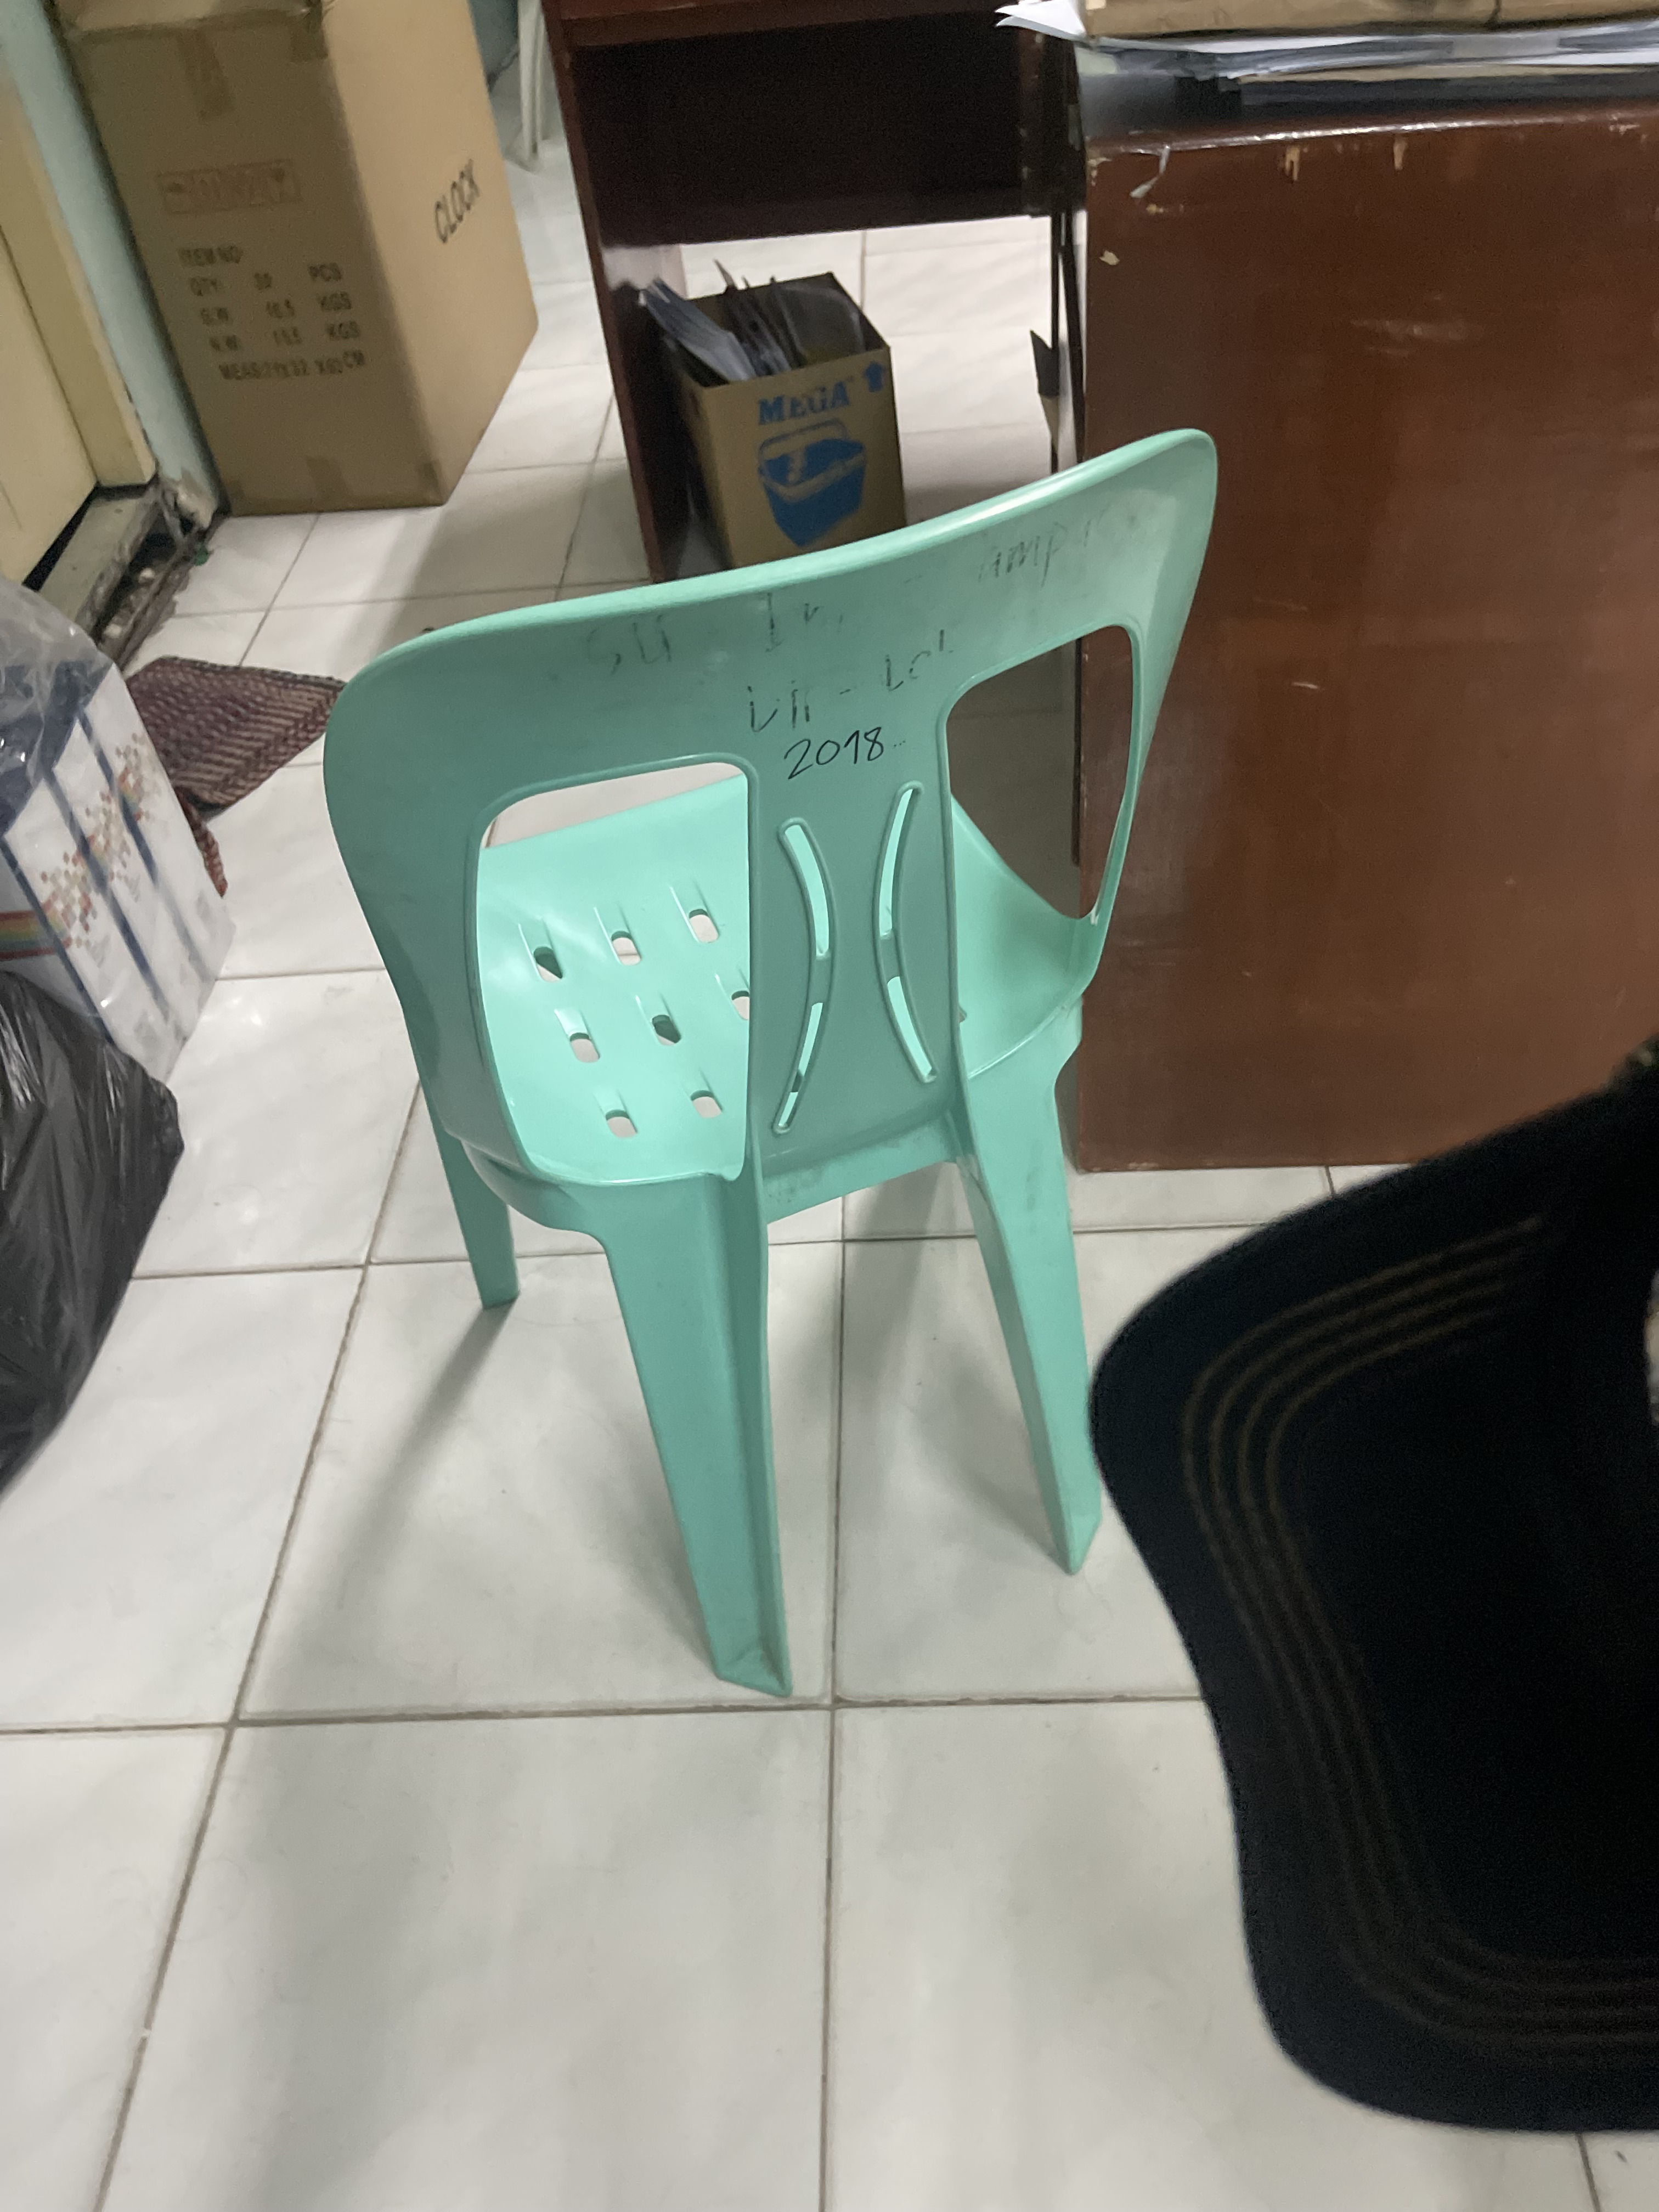chair2: (305, 416, 1190, 1714)
